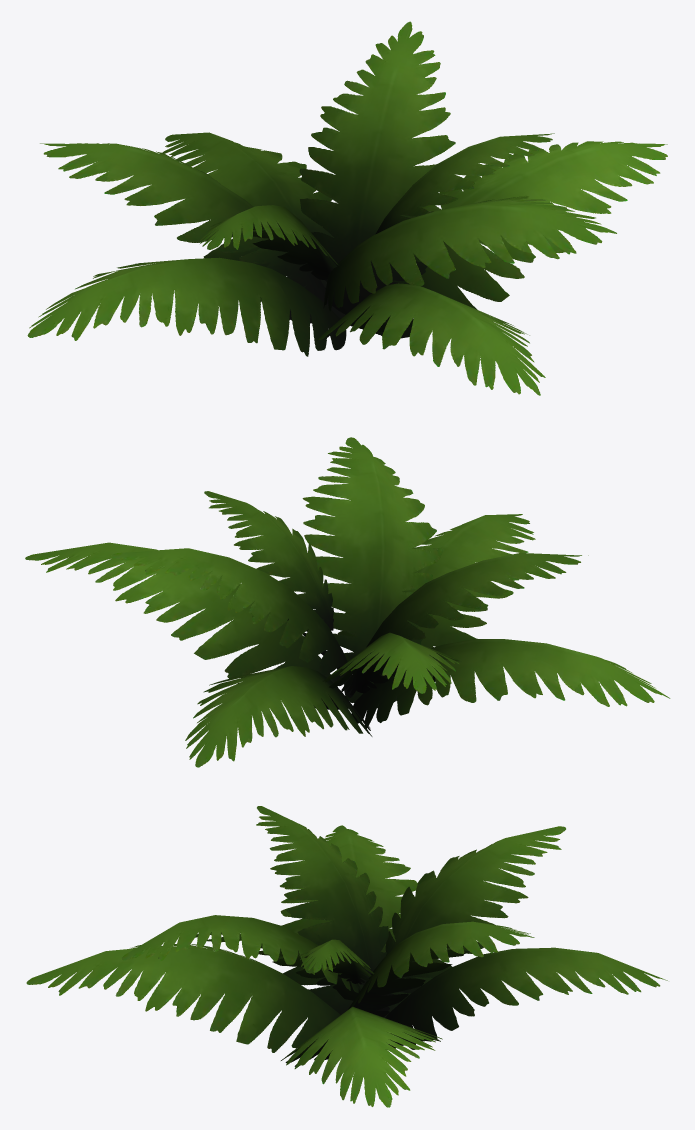
The model's file is Fern_1.glb.
3 renders of one model, top to bottom at view 1: azimuth 30°, elevation 25°; view 2: azimuth 150°, elevation 25°; view 3: azimuth 270°, elevation 25°, orthographic. The views are drawn at different scales.
Visible parts, largest first — view 1: Fern_1; view 2: Fern_1; view 3: Fern_1.
Part boxes in pixels (x1,y1,x2,y2): Fern_1: (27,21,667,395); Fern_1: (25,437,670,767); Fern_1: (26,806,667,1107).
Size of the model in its own units: 2.83 by 0.8402 by 2.65.
Materials: 1 (1 with a texture image).
